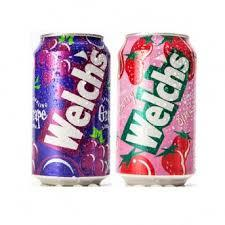welchs_grape: (35, 27, 116, 189)
